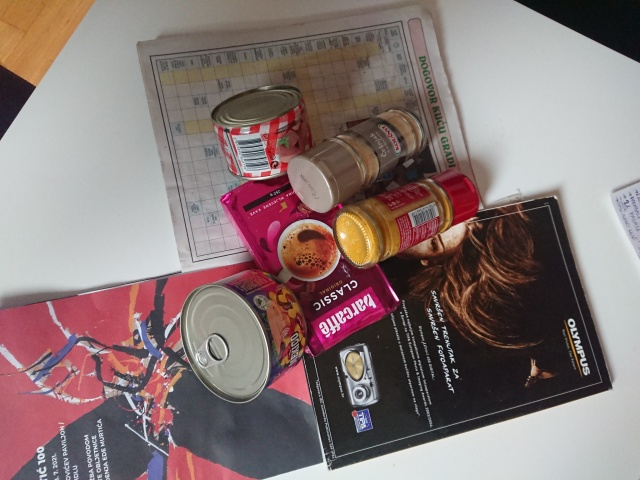Barcaffe Classic Original 225g: (218, 152, 404, 361)
Giana Tuna Salad Mexico 185g: (177, 266, 310, 406)
Kotanyi Curry Spices Mix 70g: (332, 167, 482, 273)
Kotanyi Garlic Granules 70g: (284, 104, 430, 215)
Podravka Luncheon Meat 150g: (209, 82, 316, 183)
